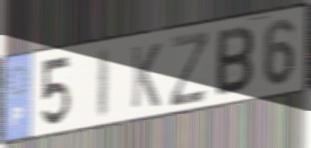5: (39, 52, 74, 130)
6: (261, 16, 297, 90)
B: (213, 24, 256, 100)
I: (96, 46, 113, 121)
K: (130, 41, 163, 112)
Z: (168, 27, 213, 110)
